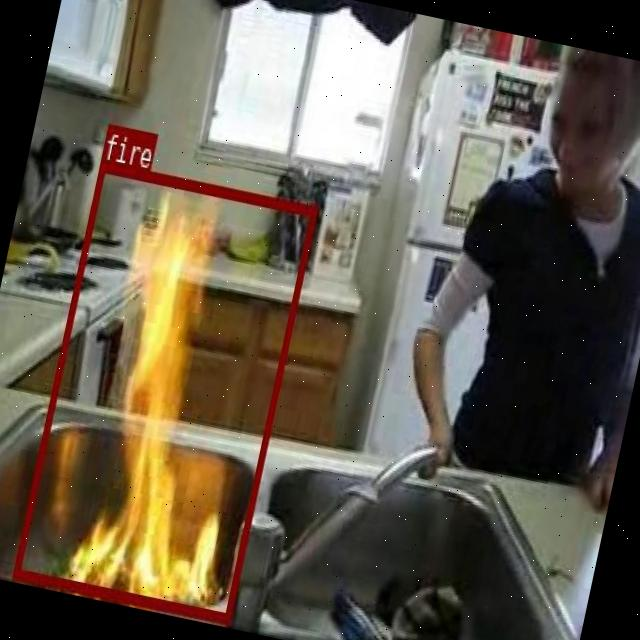fire: (11, 158, 316, 620)
